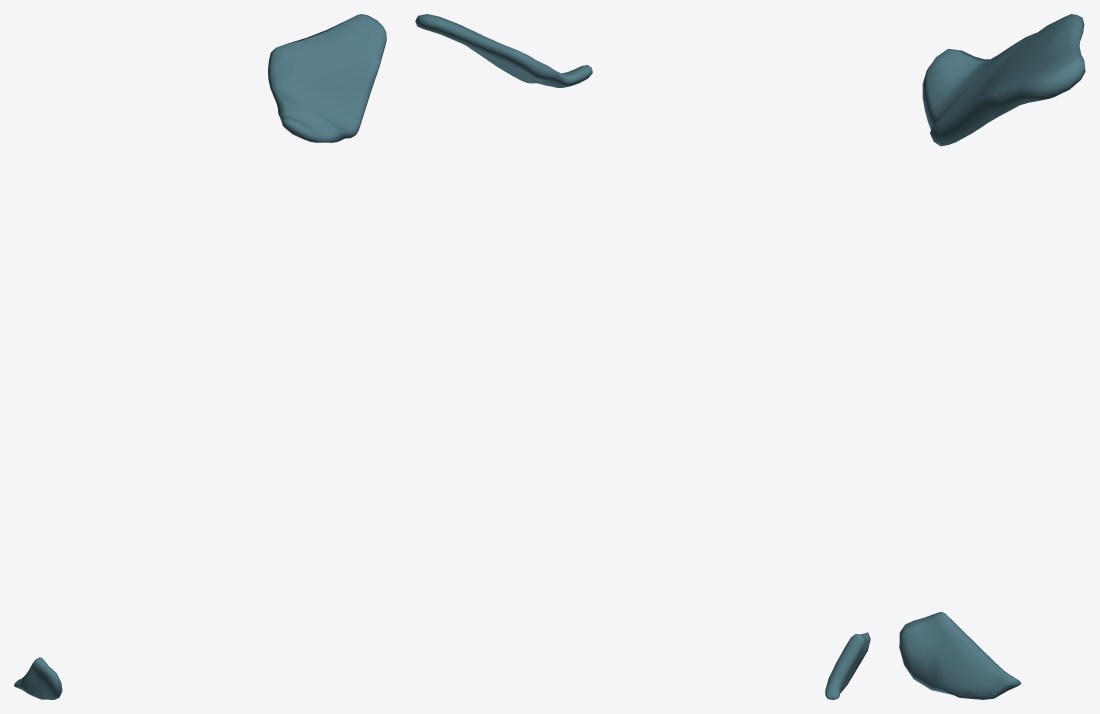
The model's file is Splenius_colli_on_transverse_process_of_atlas.l_Generated_Mesh_.glb.
3 views of the same model, side by side, from view 1: azimuth 30°, elevation 25°; view 2: azimuth 150°, elevation 25°; view 3: azimuth 270°, elevation 25° (orthographic). The views are drawn at different scales.
Parts seen in each view (by area): view 1: Splenius_colli_on_transverse_process_of_atlas.l_Generated_Me; view 2: Splenius_colli_on_transverse_process_of_atlas.l_Generated_Me; view 3: Splenius_colli_on_transverse_process_of_atlas.l_Generated_Me.
Part boxes in pixels (<box>): Splenius_colli_on_transverse_process_of_atlas.l_Generated_Me: <box>14,14,386,699</box>; Splenius_colli_on_transverse_process_of_atlas.l_Generated_Me: <box>415,14,870,699</box>; Splenius_colli_on_transverse_process_of_atlas.l_Generated_Me: <box>899,14,1085,699</box>.
Bounding box in the file's own units: 0.0145 × 0.0206 × 0.0038.
